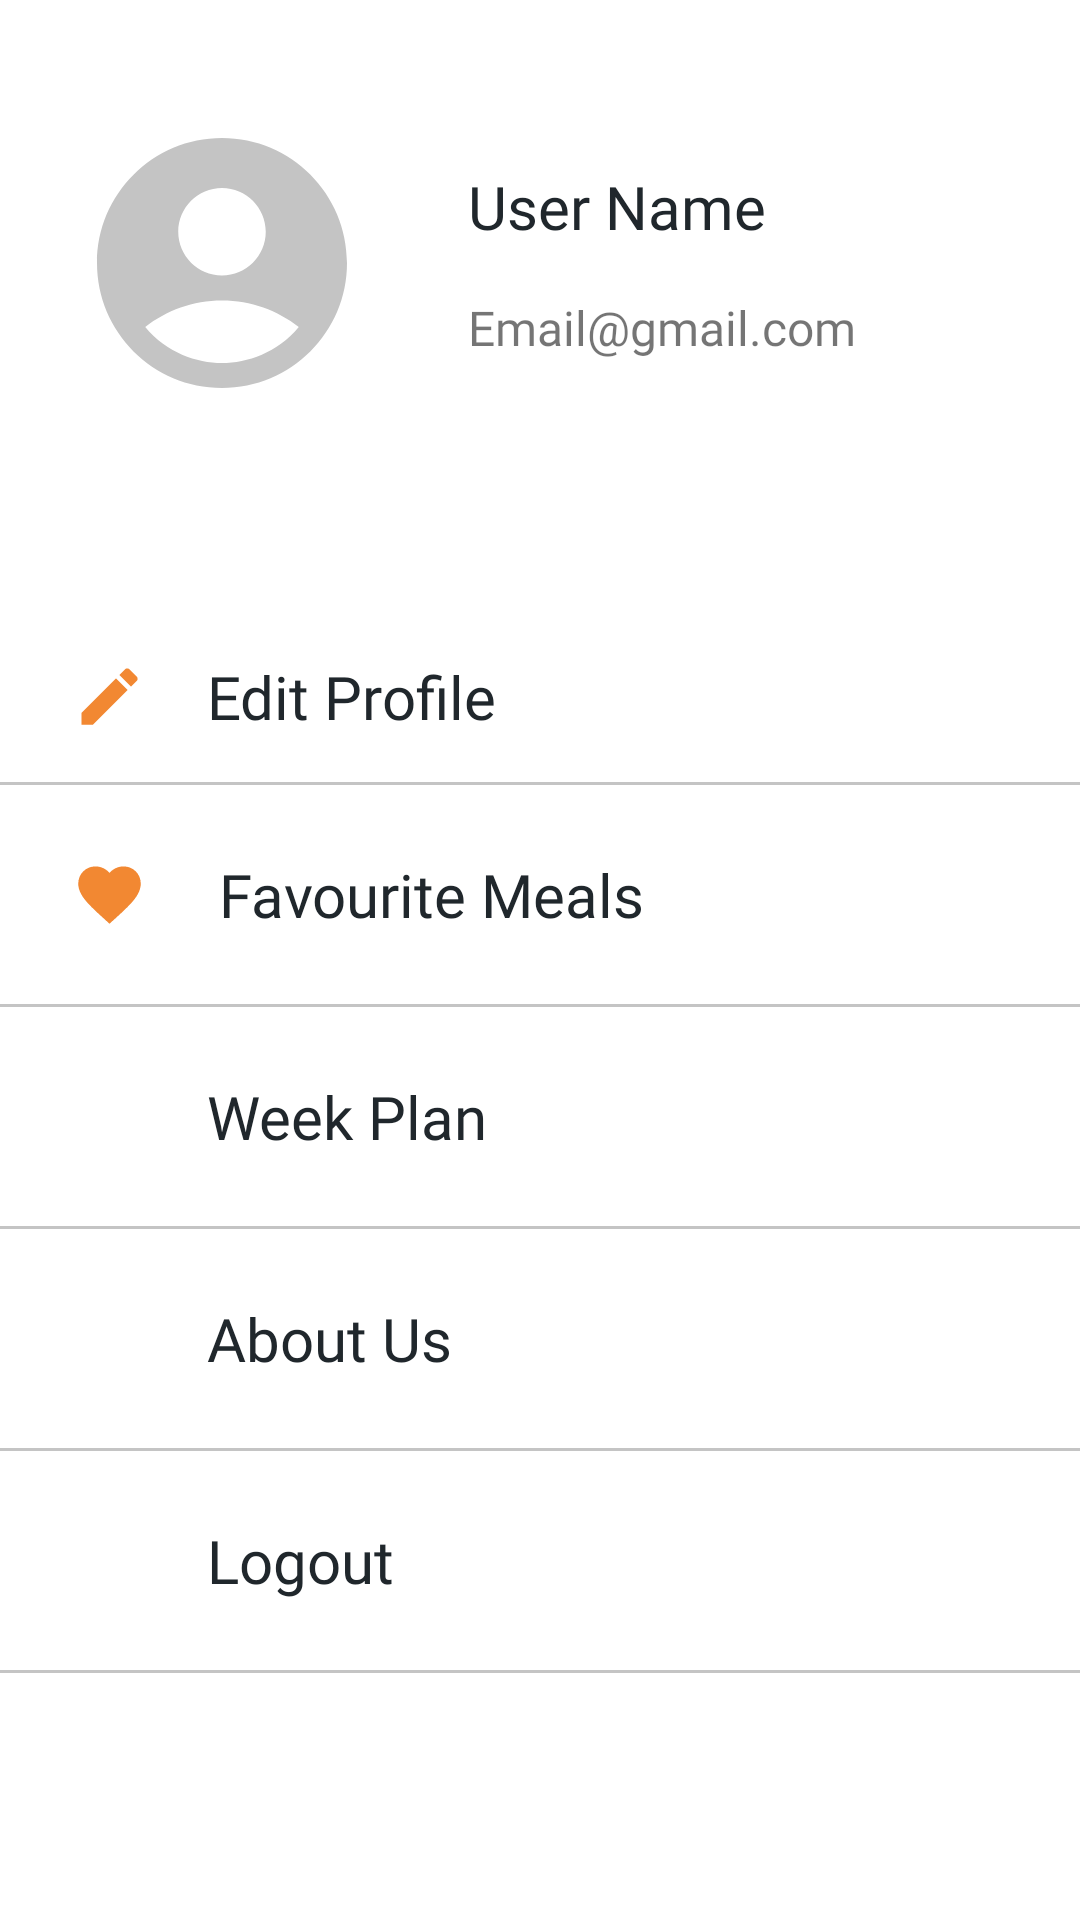

Where to tap for icons on this 1080px x 1920px app screen, as (x=x, y=y):
account circle: (x=222, y=263)
favorite: (x=109, y=895)
